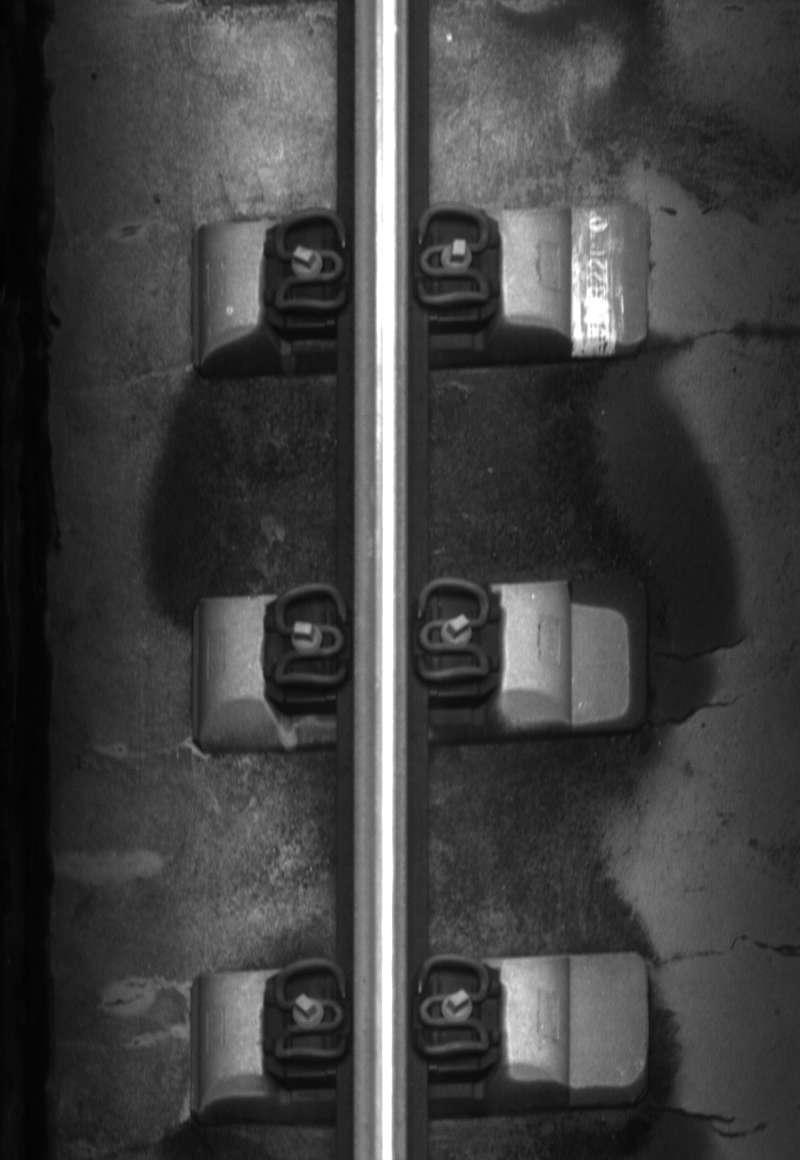l_faster: (266, 202, 353, 324), (267, 951, 351, 1075), (269, 579, 352, 697)
r_faster: (408, 571, 496, 693), (409, 948, 494, 1067), (412, 201, 494, 310)
